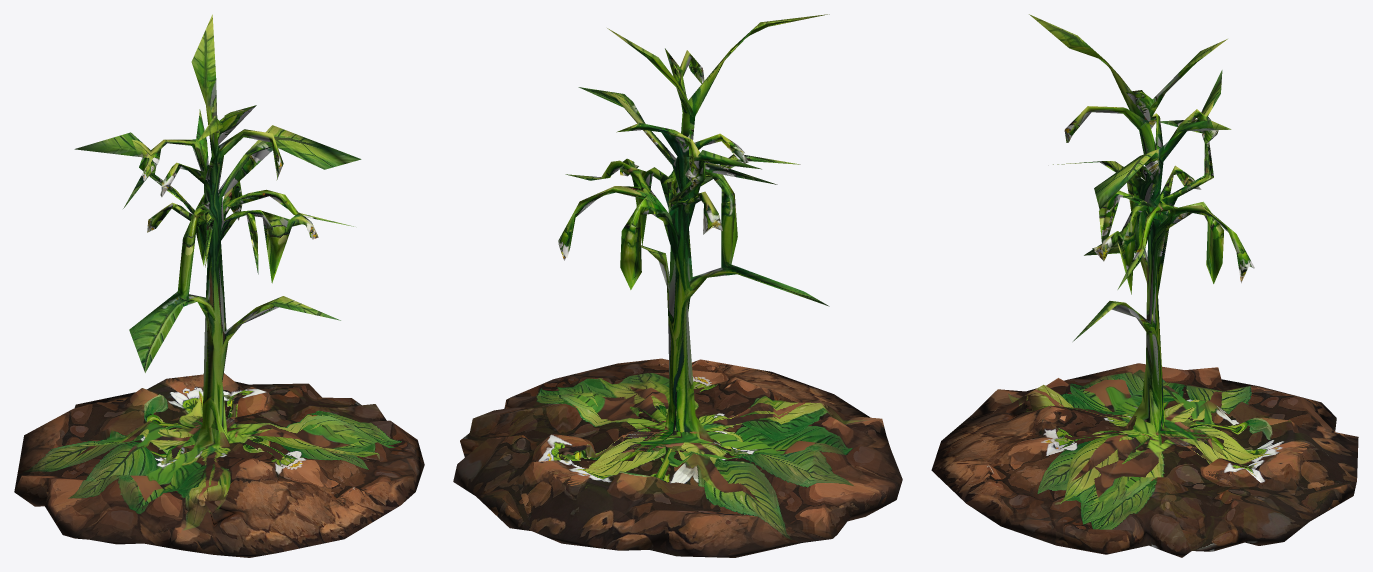
Rendered from Crop_Chili_Growing.fbx.
3 renders of one model, left to right at view 1: azimuth 30°, elevation 25°; view 2: azimuth 150°, elevation 25°; view 3: azimuth 270°, elevation 25°, orthographic. The views are drawn at different scales.
Visible parts, largest first — view 1: texture_mapping; view 2: texture_mapping; view 3: texture_mapping.
Part boxes in pixels (x1,y1,x2,y2): texture_mapping: (14, 14, 424, 557); texture_mapping: (453, 14, 902, 557); texture_mapping: (931, 14, 1358, 557).
Size of the model in its own units: 0.8145 by 0.8074 by 0.952.
1 material, 1 textured.
